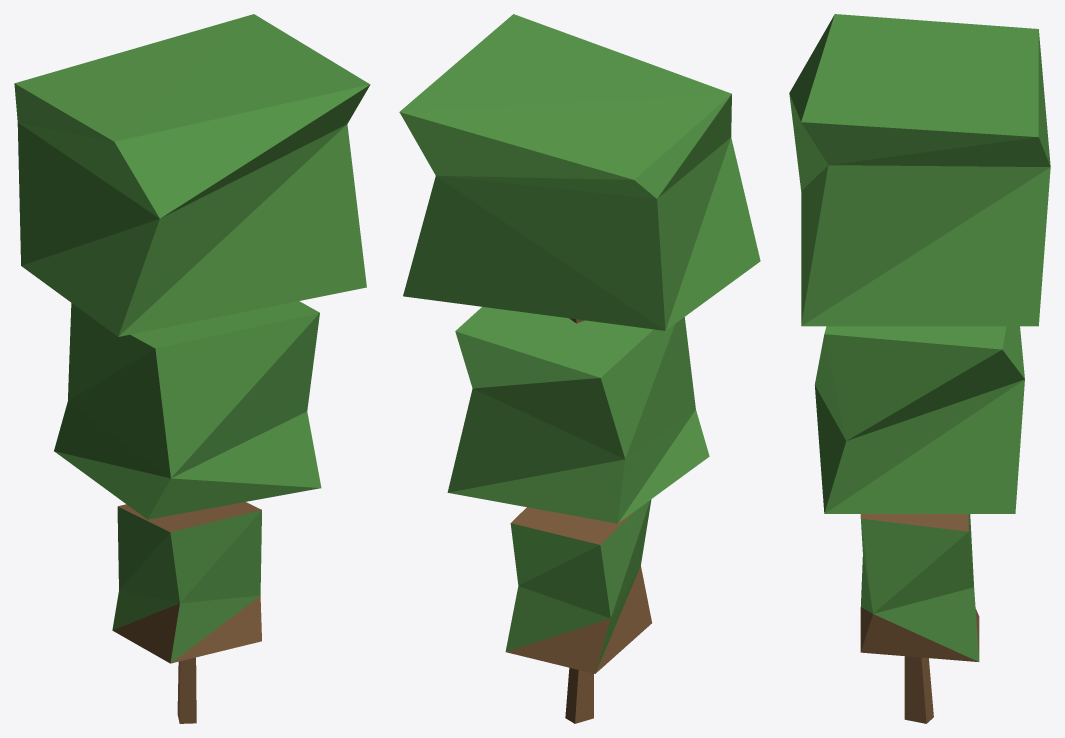
The model's file is tree3d-006.glb.
3 views of the same model, side by side, from view 1: azimuth 30°, elevation 25°; view 2: azimuth 150°, elevation 25°; view 3: azimuth 270°, elevation 25° (orthographic). The views are drawn at different scales.
Visible parts, largest first — view 1: tree3d-006; view 2: tree3d-006; view 3: tree3d-006.
Boxes of the visible parts, <box> form: tree3d-006: <box>14,14,370,723</box>; tree3d-006: <box>399,14,760,723</box>; tree3d-006: <box>789,14,1050,723</box>.
Size of the model in its own units: 0.4088 by 1 by 0.3596.
